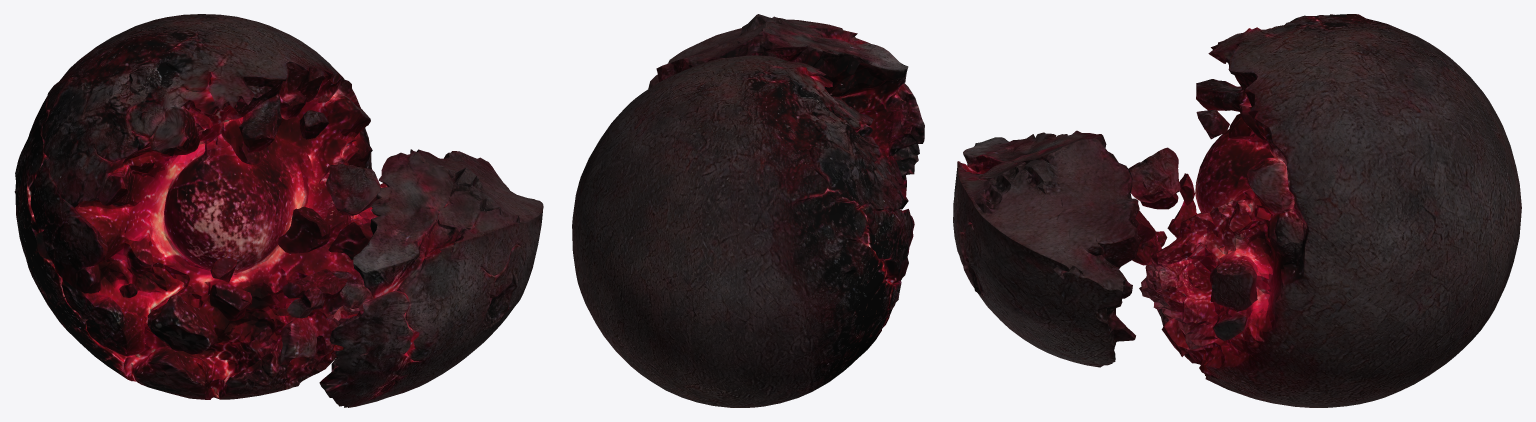
Rendered from base_basic_pbr.fbx.
3 views of the same model, side by side, from view 1: azimuth 30°, elevation 25°; view 2: azimuth 150°, elevation 25°; view 3: azimuth 270°, elevation 25° (orthographic). The views are drawn at different scales.
Visible parts, largest first — view 1: model; view 2: model; view 3: model.
Part boxes in pixels (<box>): model: <box>14,14,543,407</box>; model: <box>572,14,924,407</box>; model: <box>953,14,1521,407</box>.
Size of the model in its own units: 151 by 131 by 190.
Materials: 1 (1 with a texture image).
